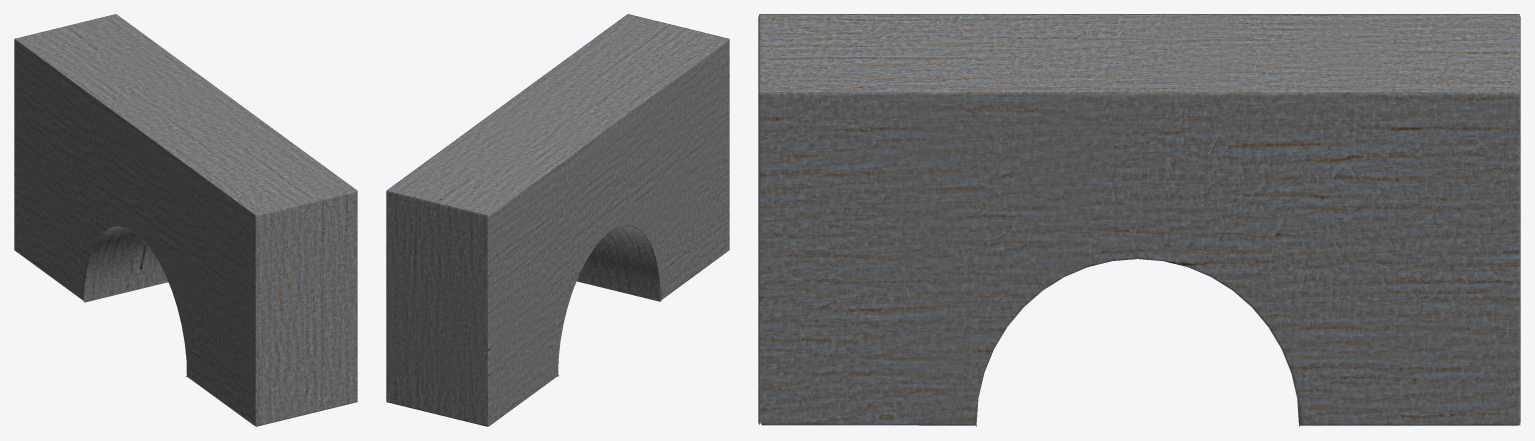
The model's file is High Arch UVed OBJ.obj.
The picture shows the model from 3 angles, left to right: view 1: azimuth 30°, elevation 25°; view 2: azimuth 150°, elevation 25°; view 3: azimuth 270°, elevation 25°; orthographic projection. The views are drawn at different scales.
Parts seen in each view (by area): view 1: pCube9; view 2: pCube9; view 3: pCube9.
Part boxes in pixels (bbox=[...]): pCube9: bbox=[14, 14, 357, 426]; pCube9: bbox=[386, 14, 729, 426]; pCube9: bbox=[758, 14, 1520, 426].
Bounding box in the file's own units: 97.94 × 191 × 394.
Materials: 1 (1 with a texture image).
